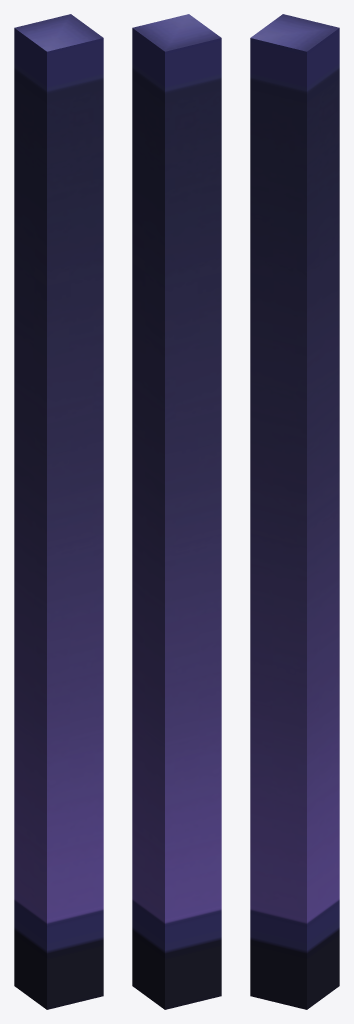
File: my_halloween_01_p_wall_side.glb
The picture shows the model from 3 angles, left to right: view 1: azimuth 30°, elevation 25°; view 2: azimuth 210°, elevation 25°; view 3: azimuth 330°, elevation 25°; orthographic projection.
Visible parts, largest first — view 1: my_halloween_01_p_wall_side; view 2: my_halloween_01_p_wall_side; view 3: my_halloween_01_p_wall_side.
Part boxes in pixels (x1,y1,x2,y2): my_halloween_01_p_wall_side: (14,14,103,1009); my_halloween_01_p_wall_side: (132,14,221,1009); my_halloween_01_p_wall_side: (250,14,339,1009).
Size of the model in its own units: 0.00297 by 0.048 by 0.00297.
Materials: 1 (1 with a texture image).
